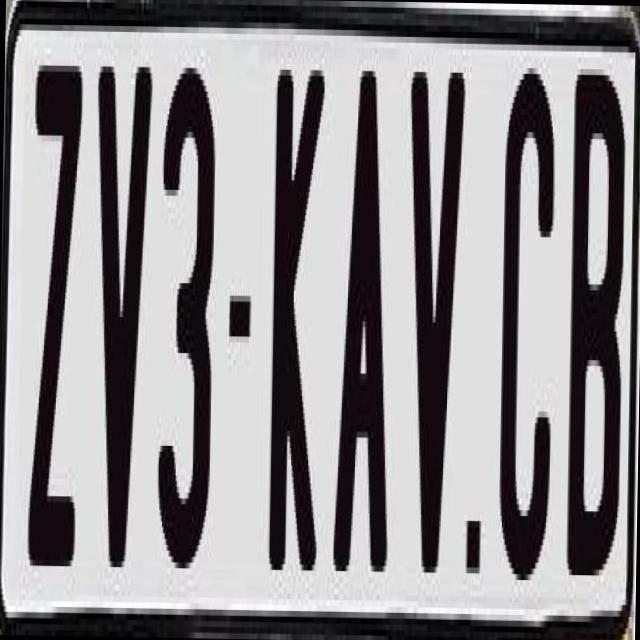3: (152, 66, 218, 592)
A: (331, 70, 399, 572)
B: (561, 62, 619, 581)
C: (494, 67, 554, 592)
K: (267, 51, 327, 582)
V: (86, 60, 158, 579), (398, 54, 464, 573)
Z: (27, 65, 92, 590)
